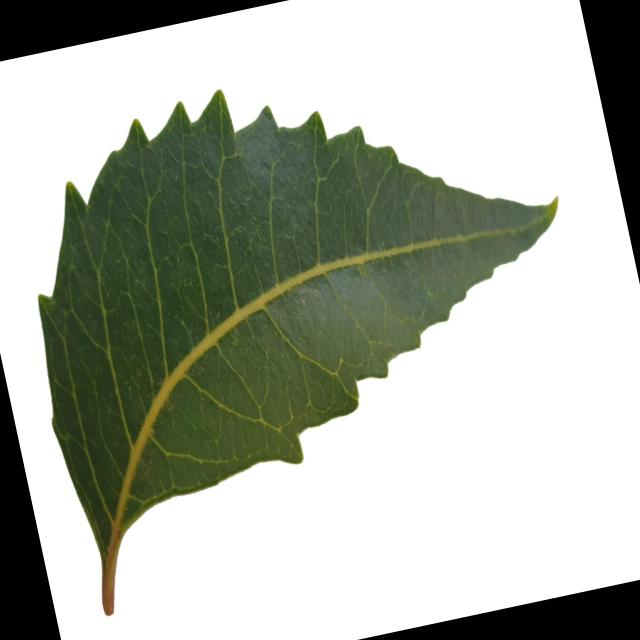Medicinal-Neem: (0, 19, 625, 619)
